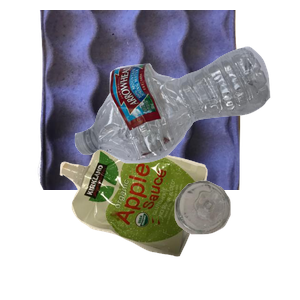glass: (172, 178, 300, 300)
paper: (35, 10, 268, 190)
plastic: (72, 44, 300, 200)
trash: (57, 137, 257, 300)
